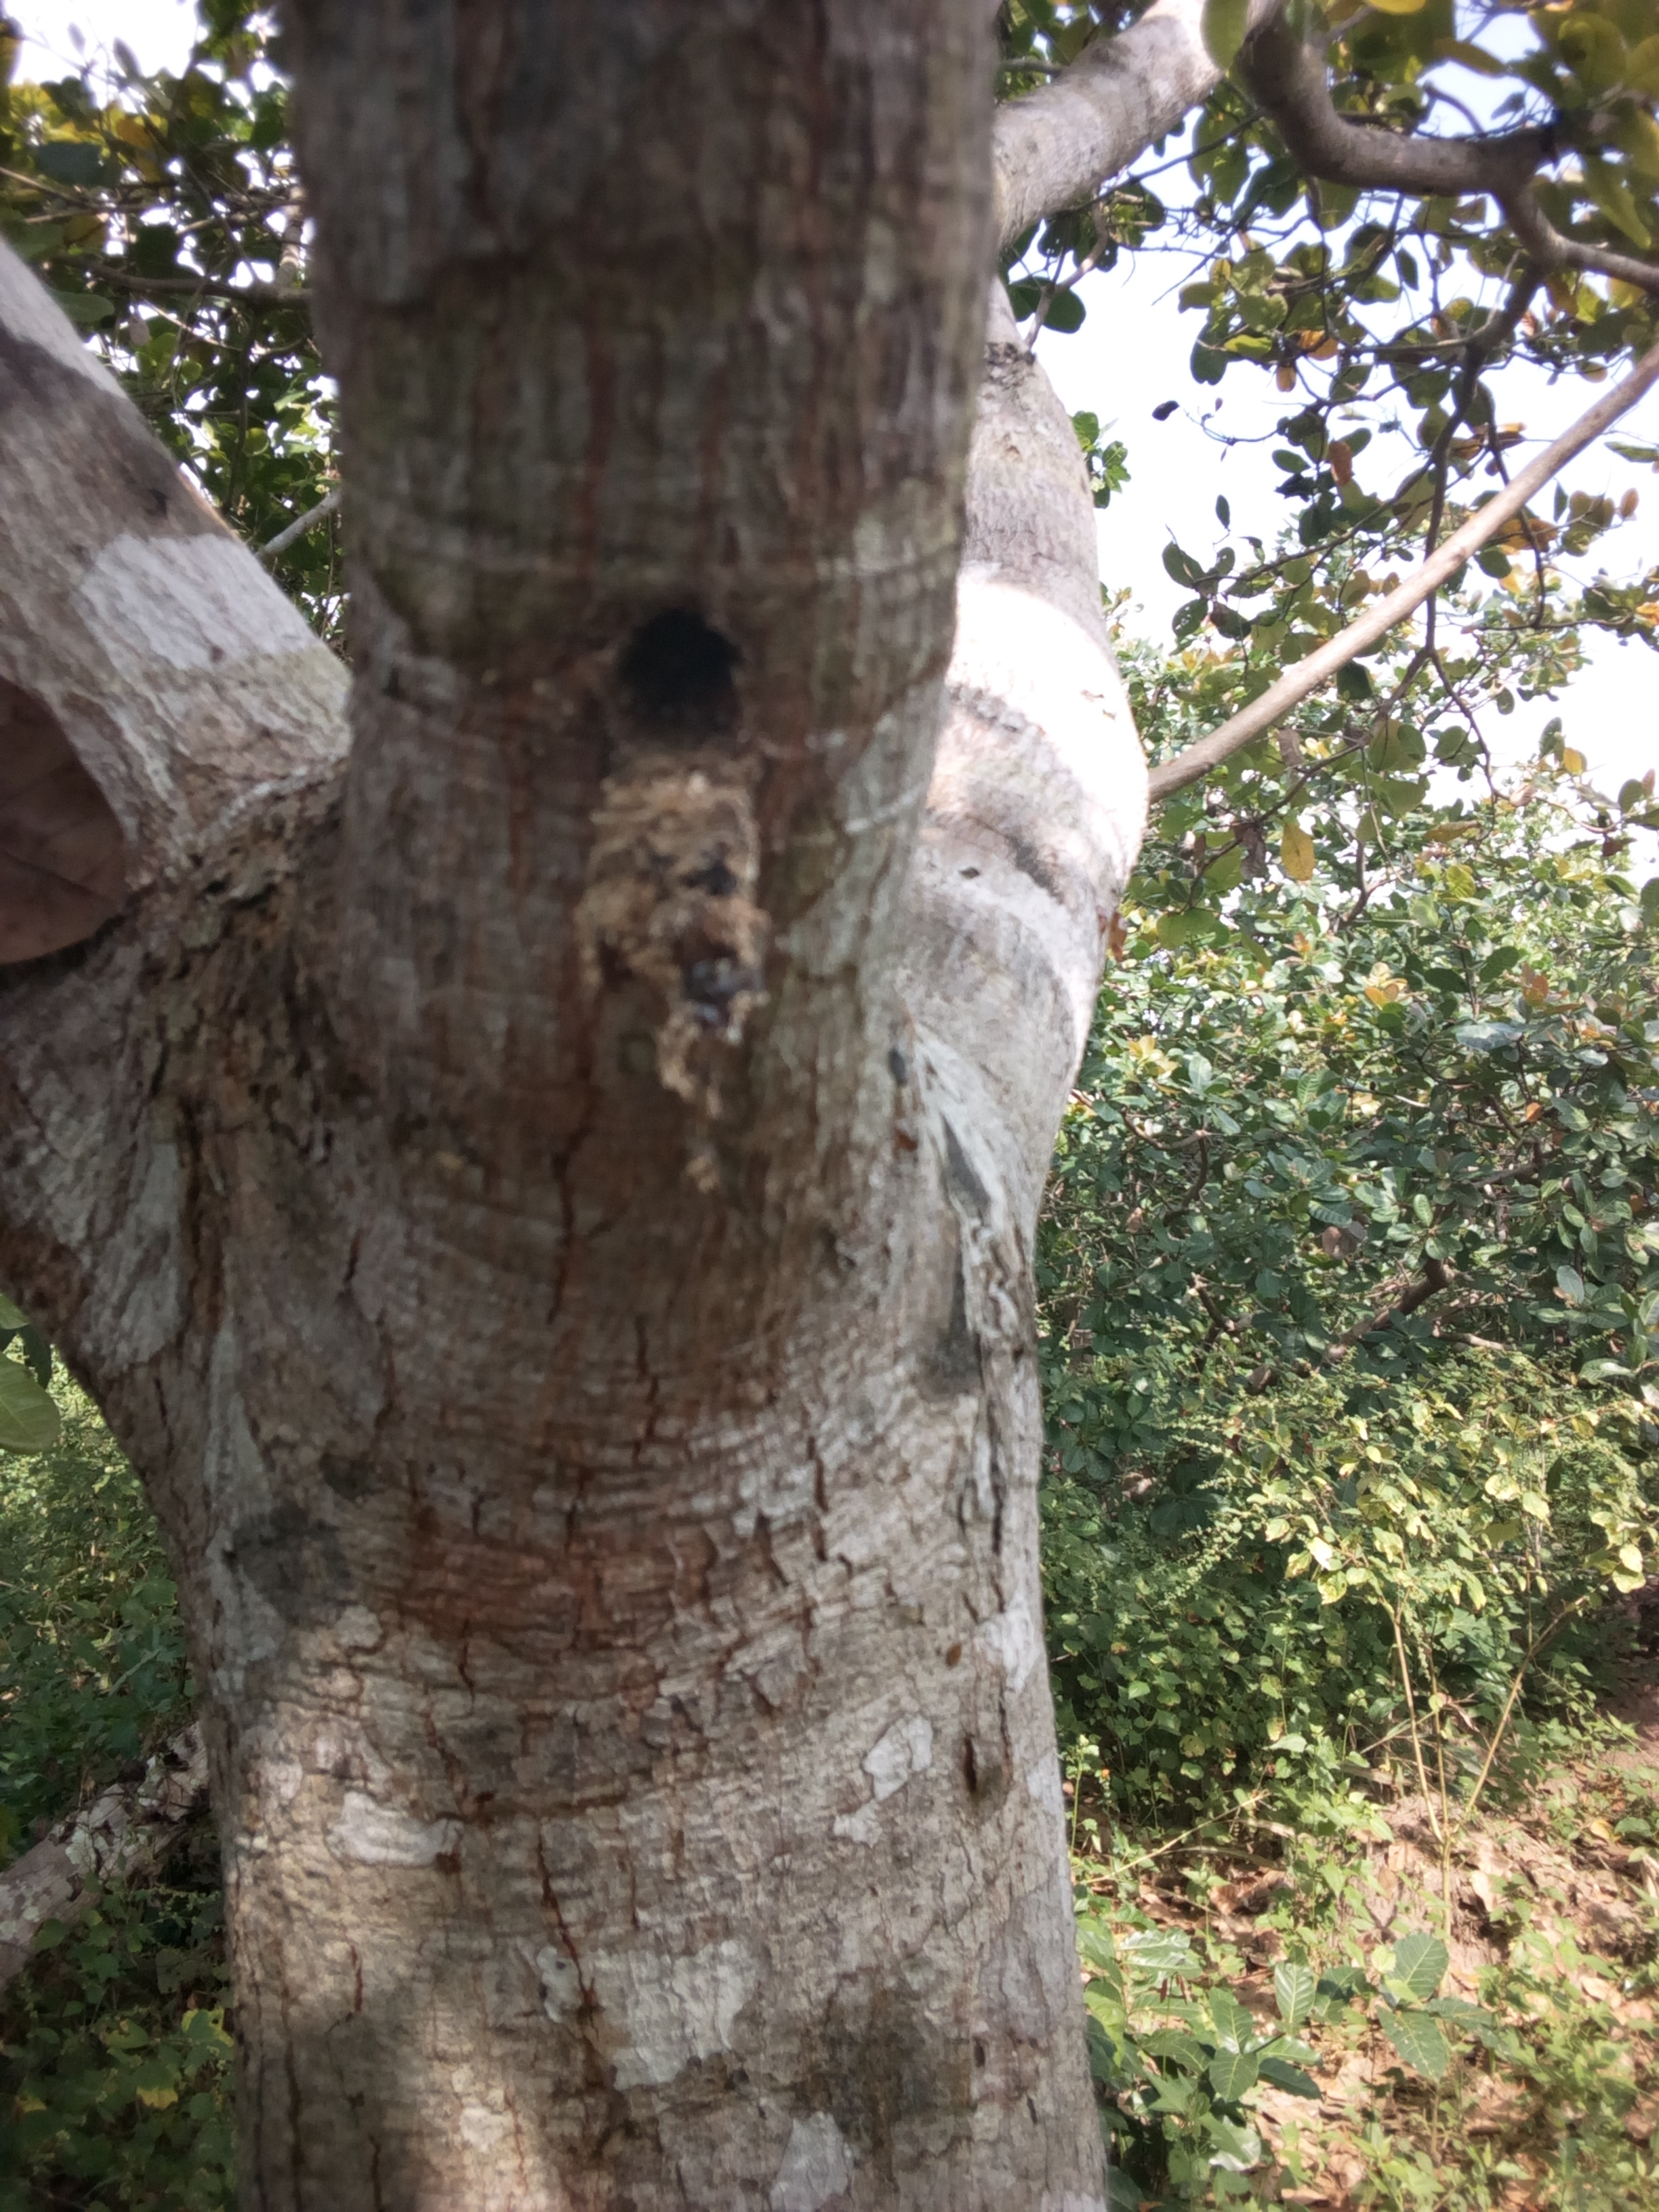Apate terebrans: (504, 597, 854, 758)
